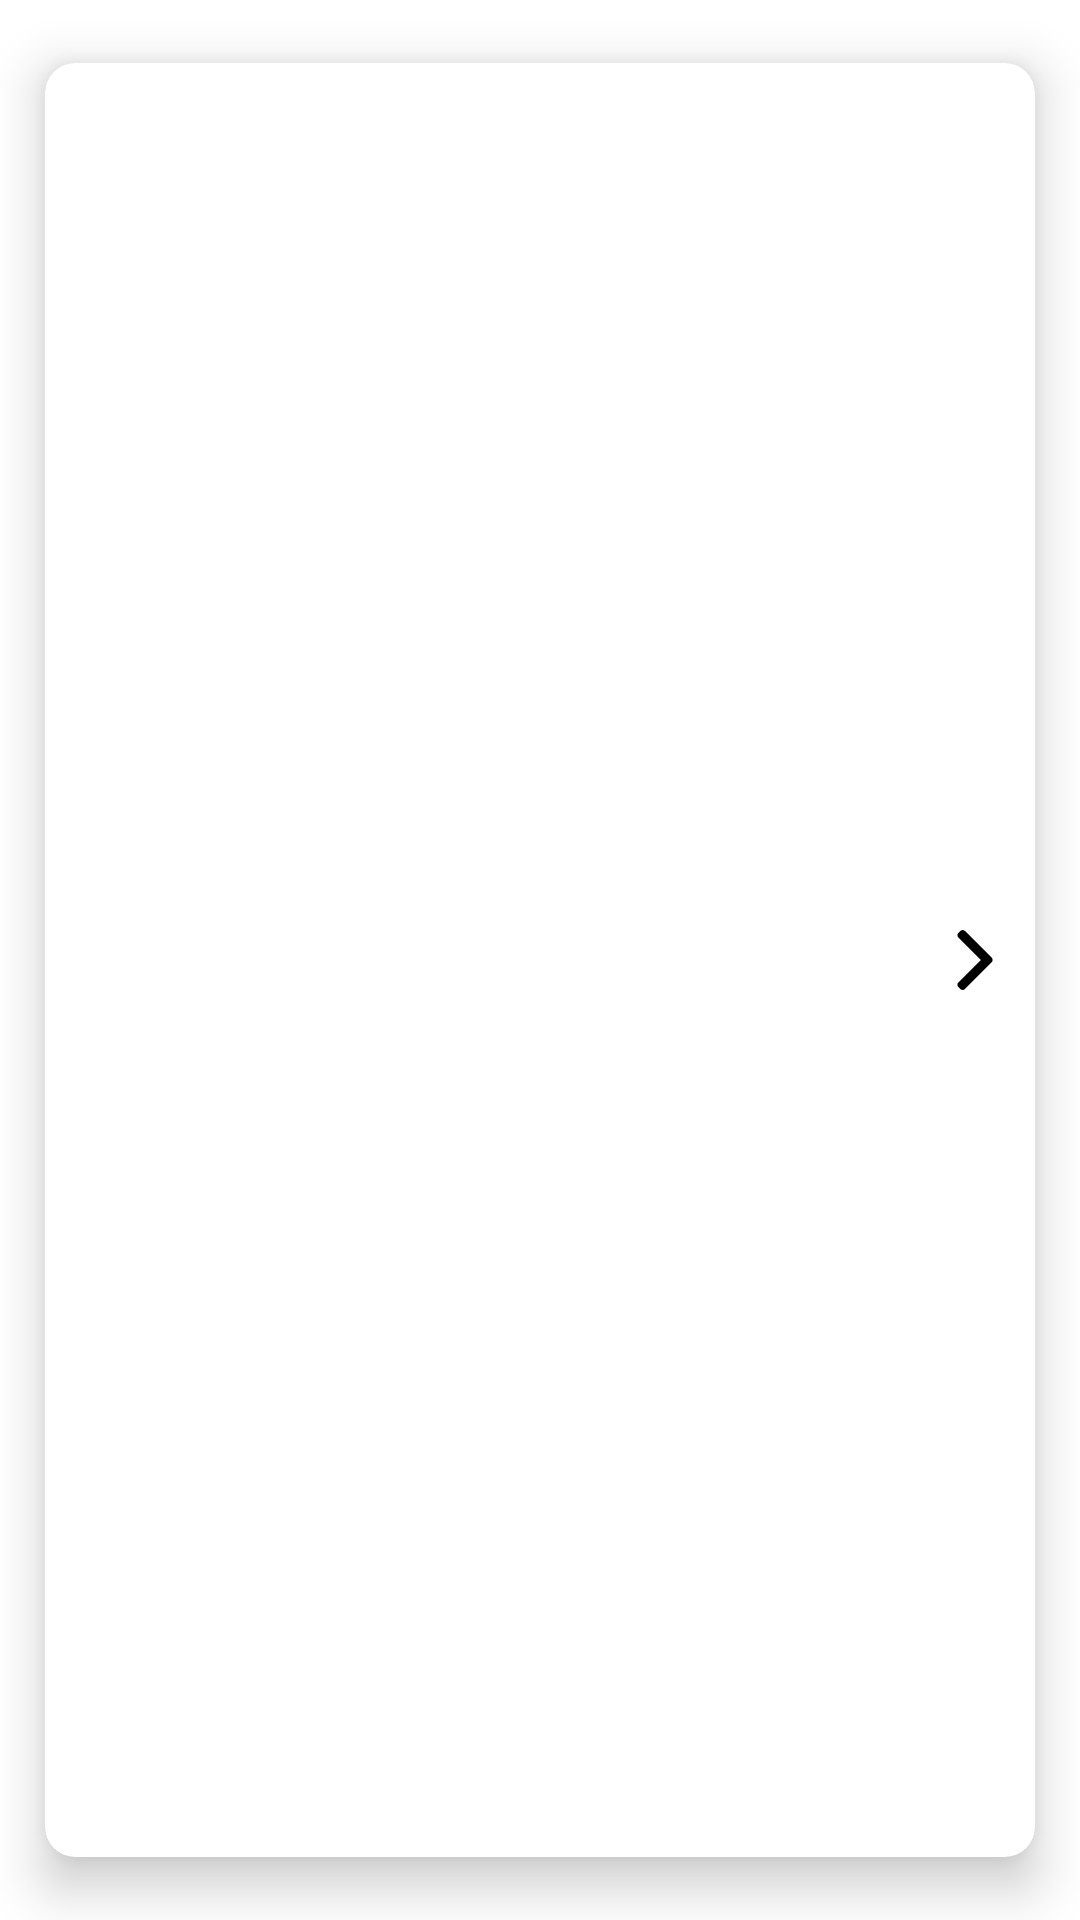

Where to tap for icons on this 1080 x 1920 app screen, as (x,y):
right arrow: (975,960)
